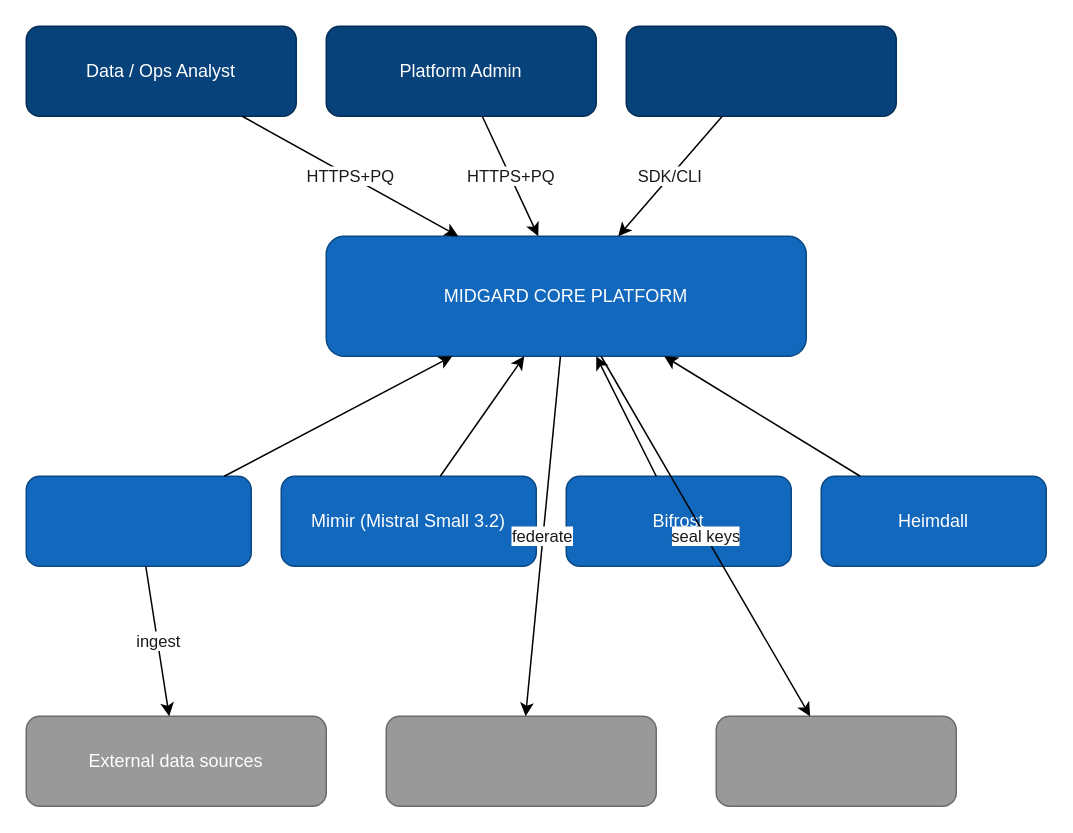
The diagram is 1073 pixels wide and 833 high, and some of its shapes have lost their labels. Each missing label, with the centre of its shape:
"Developer" goes at (760,70).
"Enterprise IdP" goes at (520,760).
"Forge" goes at (138,520).
"HSM / TPM" goes at (835,760).
